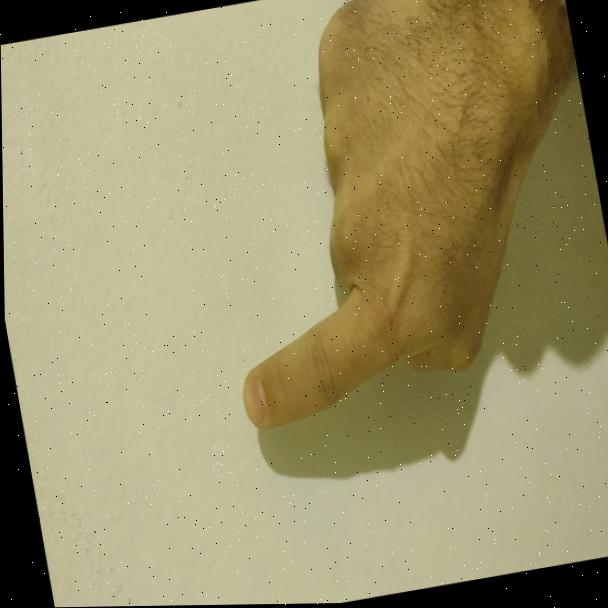one: (165, 0, 557, 446)
